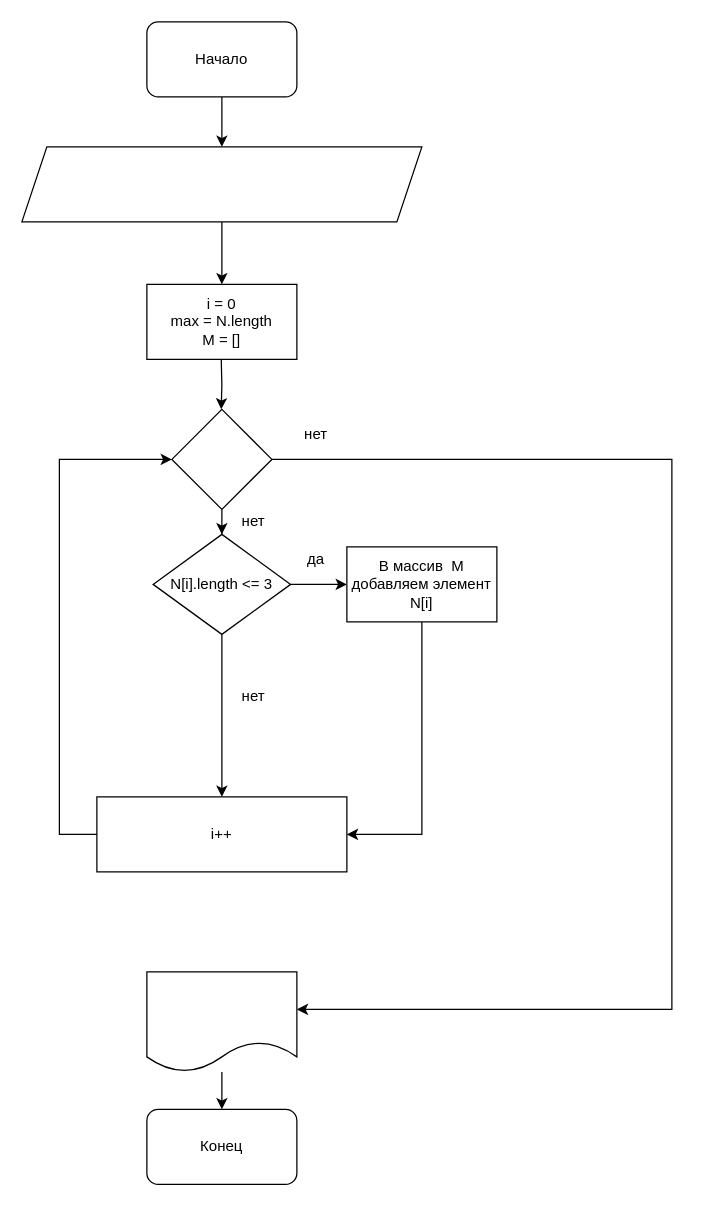
Image size: 704x1206. Some labels were removed from this diagram. Here are the shapes that lost their labels. From the top down, the centre of each, then its label:
pixel 221 184: N = ["hello", "2", "world", ":-)"]
pixel 221 458: i < max
pixel 221 1021: Вывод M
